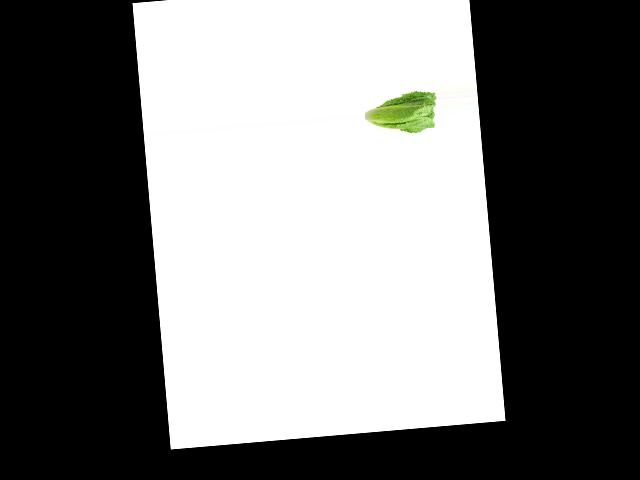lettuce: (363, 87, 439, 142)
